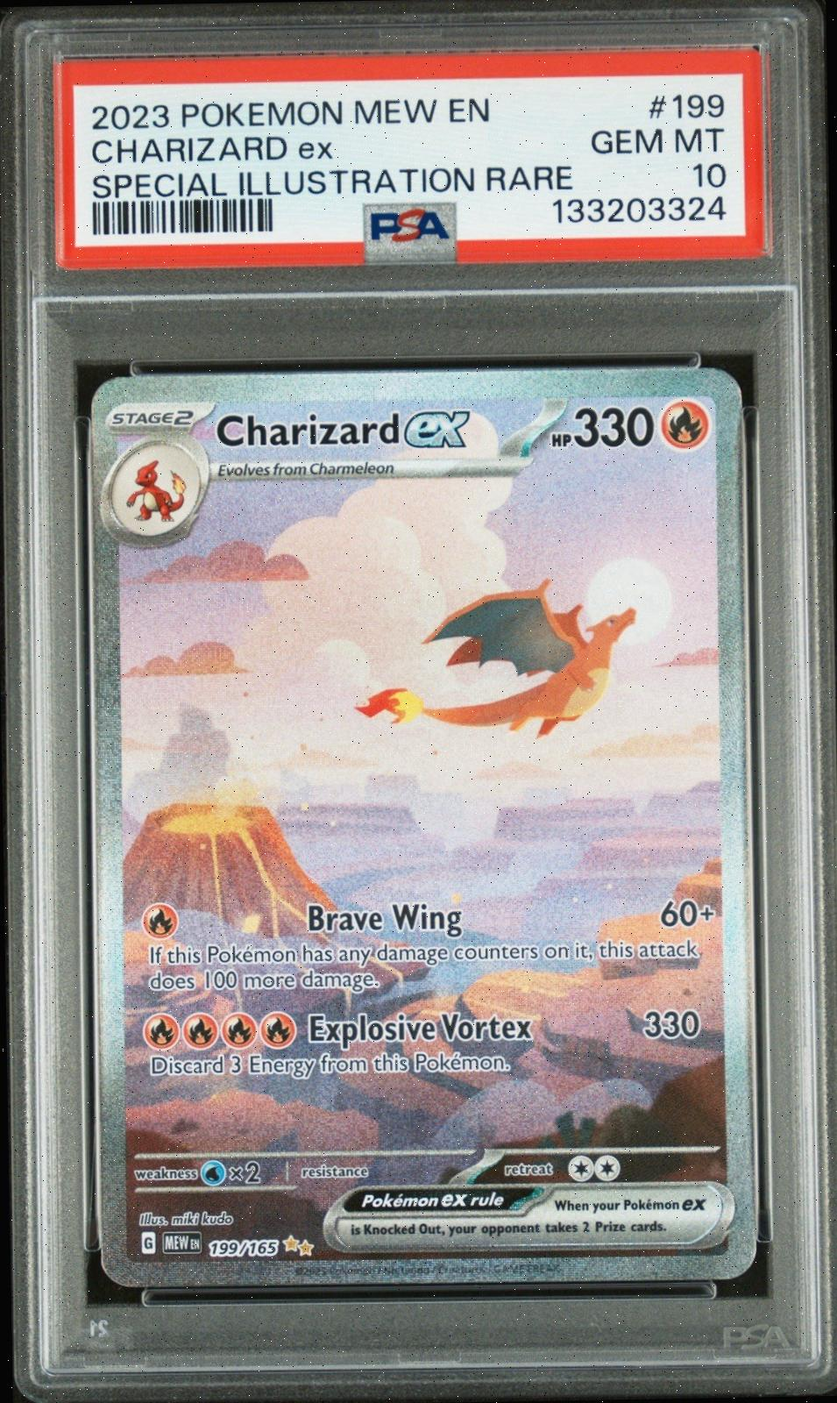card-2UtV: (89, 366, 758, 1289)
